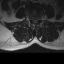CCS_severe_stenosis: (34, 18, 36, 24)
LFS_stenosis: (37, 16, 39, 21)
LLS_stenosis: (36, 18, 37, 23)
RFS_severe_stenosis: (30, 16, 32, 21)
RLS_stenosis: (32, 17, 34, 23)
